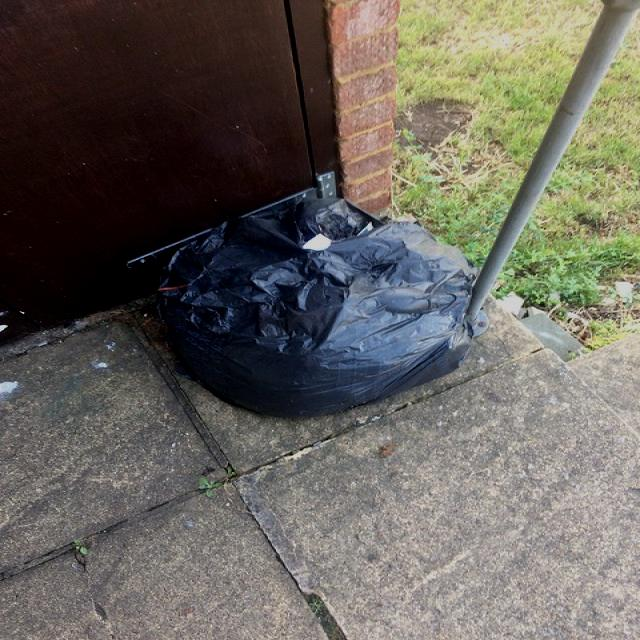Trash: (142, 183, 481, 397)
